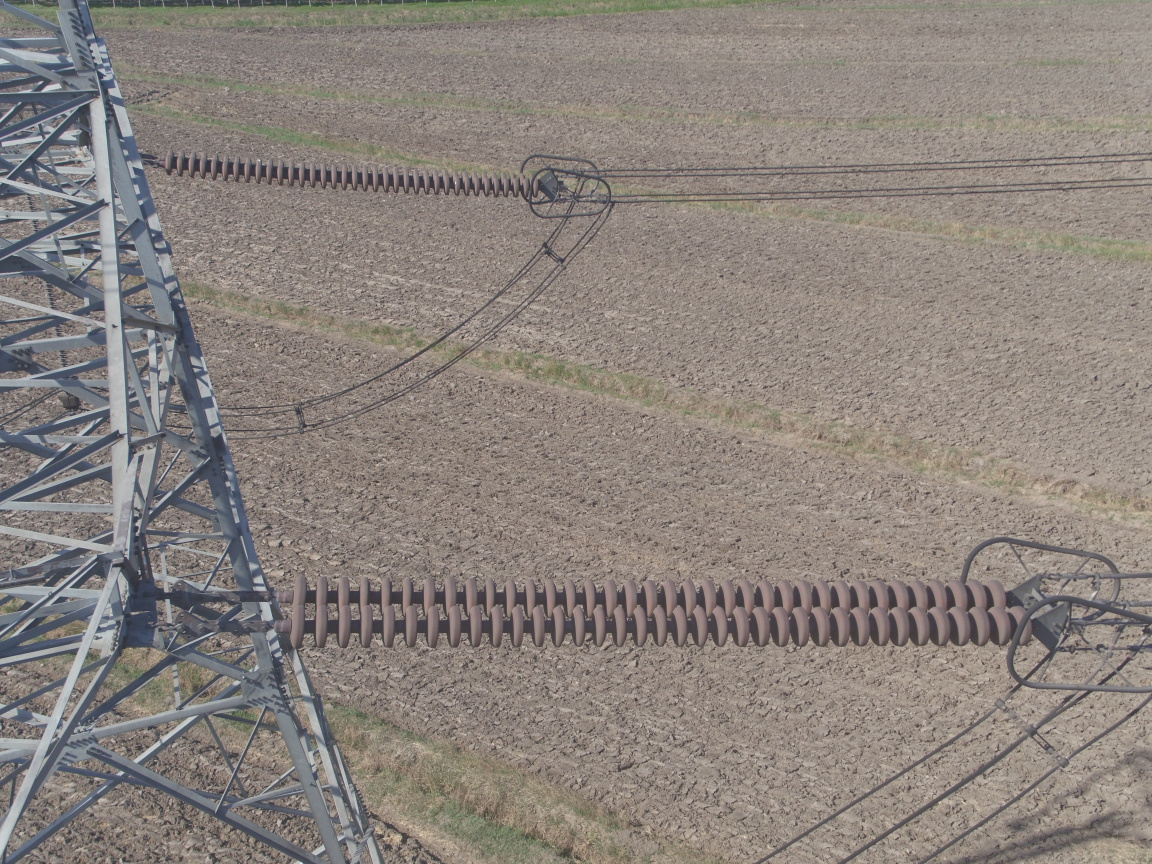insulator: (258, 571, 1045, 657), (161, 148, 535, 204)
